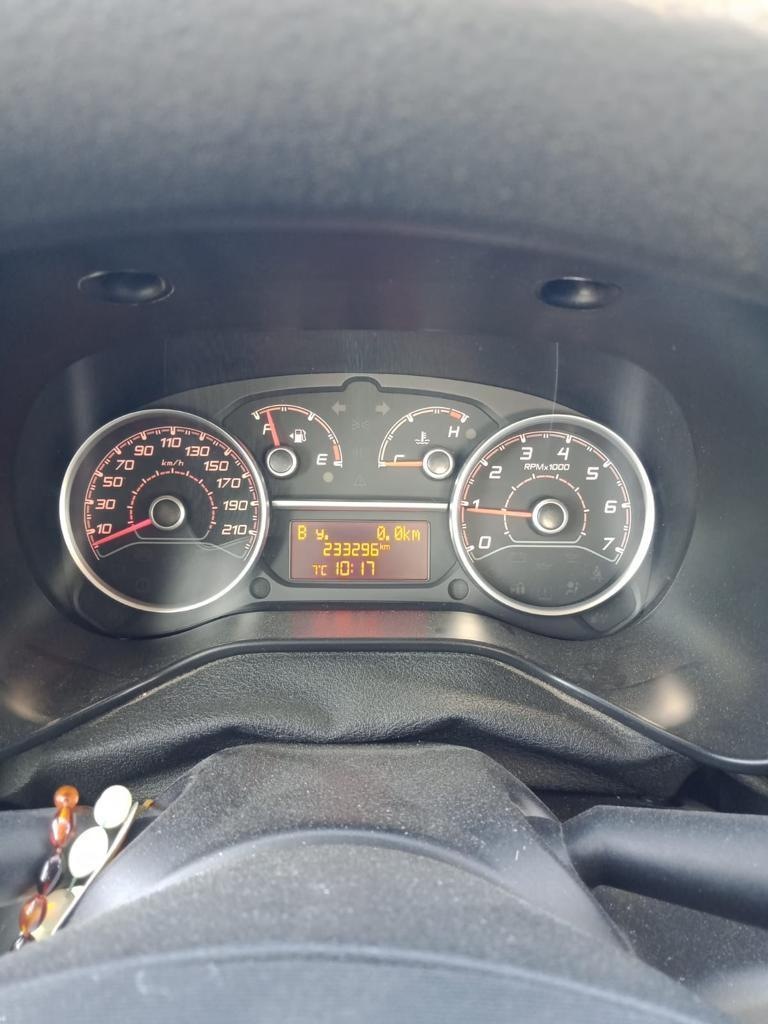,: (385, 535, 390, 540), (324, 534, 328, 540)
0: (339, 559, 350, 576), (376, 524, 385, 540), (393, 525, 402, 541)
1: (360, 560, 365, 576), (334, 561, 339, 575)
2: (322, 542, 331, 556), (351, 542, 360, 556)
3: (332, 541, 341, 556), (342, 542, 350, 556)
6: (370, 542, 378, 556)
7: (365, 559, 375, 575), (311, 563, 318, 575)
9: (360, 542, 370, 556)
X: (296, 524, 307, 540), (410, 528, 420, 541), (314, 527, 324, 540), (403, 525, 410, 541), (320, 564, 327, 576), (378, 542, 383, 551), (350, 562, 354, 573), (383, 544, 390, 550)
odometer: (281, 514, 436, 588)
